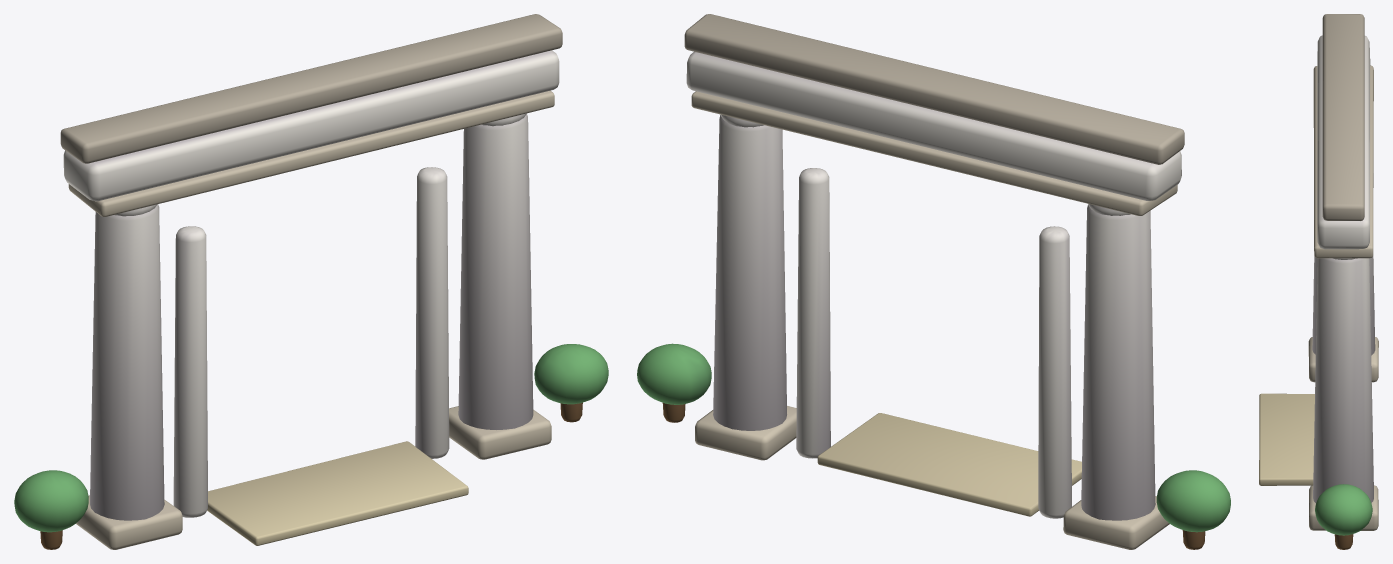
3 views of the same model, side by side, from view 1: azimuth 30°, elevation 25°; view 2: azimuth 150°, elevation 25°; view 3: azimuth 270°, elevation 25° (orthographic). The views are drawn at different scales.
Visible parts, largest first — view 1: gate_a54f9266; view 2: gate_a54f9266; view 3: gate_a54f9266.
Boxes of the visible parts, x1,y1,x2,y2 form: gate_a54f9266: [14, 14, 608, 549]; gate_a54f9266: [637, 14, 1230, 549]; gate_a54f9266: [1259, 14, 1378, 549].
Bounding box in the file's own units: 6.61 × 4.37 × 1.42.
